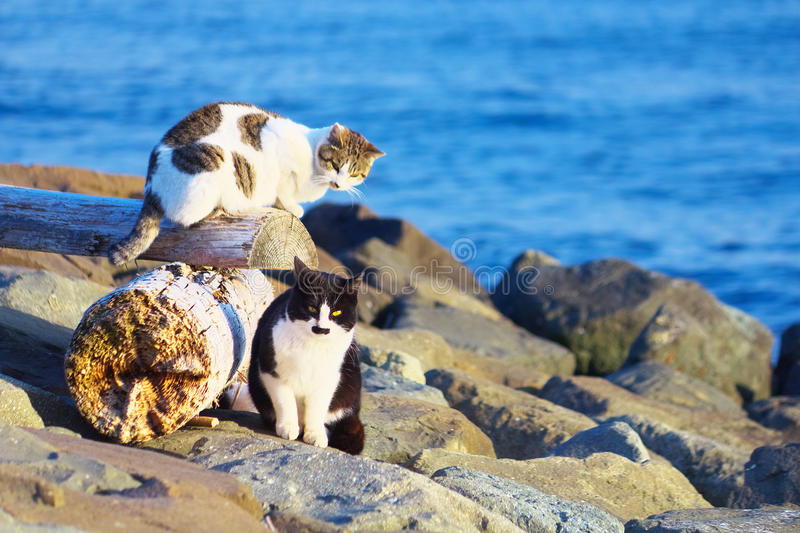Cat: (98, 91, 389, 274), (243, 259, 369, 454)
